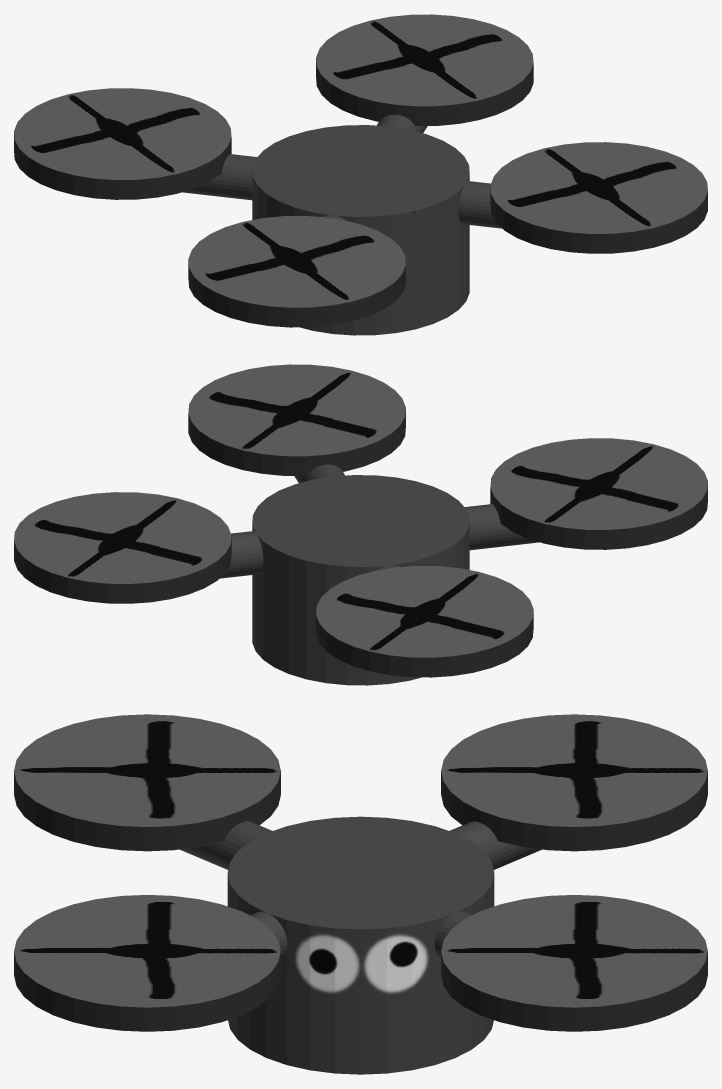
The model's file is modello.obj.
The picture shows the model from 3 angles, top to bottom: view 1: azimuth 30°, elevation 25°; view 2: azimuth 150°, elevation 25°; view 3: azimuth 270°, elevation 25°; orthographic projection. The views are drawn at different scales.
Visible parts, largest first — view 1: base, mot3, mot2, mot4, mot1, l2, l1; view 2: base, mot4, mot1, mot3, mot2, l1, l2; view 3: base, mot1, mot2, mot3, mot4, l1, l2.
Boxes of the visible parts, x1,y1,x2,y2 form: base: [252, 125, 469, 335]; mot3: [188, 216, 405, 327]; mot2: [490, 142, 707, 253]; mot4: [14, 88, 231, 199]; mot1: [316, 14, 533, 125]; l2: [183, 154, 501, 228]; l1: [322, 114, 427, 220]; base: [252, 475, 469, 685]; mot4: [316, 566, 533, 677]; mot1: [14, 492, 231, 603]; mot3: [490, 438, 707, 549]; mot2: [188, 364, 405, 475]; l1: [220, 504, 538, 578]; l2: [294, 464, 399, 570]; base: [227, 816, 494, 1074]; mot1: [441, 895, 707, 1031]; mot2: [14, 895, 280, 1031]; mot3: [14, 714, 280, 851]; mot4: [441, 714, 707, 851]; l1: [179, 821, 471, 958]; l2: [250, 821, 542, 958].
Bounding box in the file's own units: 1.3 × 0.325 × 1.3.
Materials: 7 (7 with a texture image).
